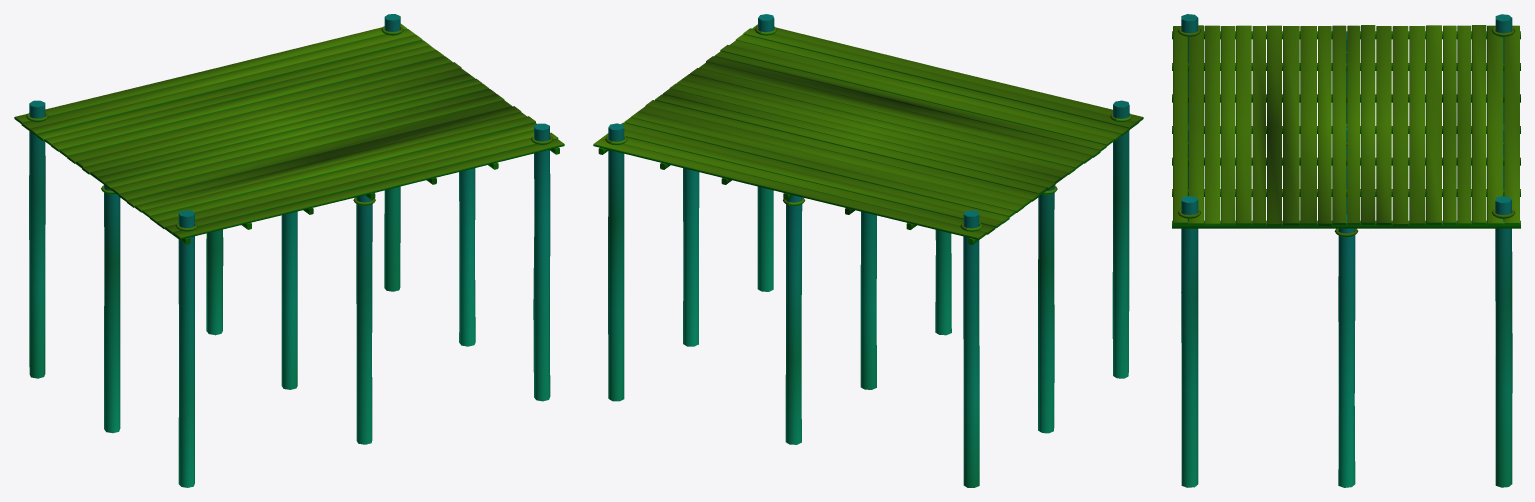
The model's file is port_deck_8m.glb.
3 views of the same model, side by side, from view 1: azimuth 30°, elevation 25°; view 2: azimuth 150°, elevation 25°; view 3: azimuth 270°, elevation 25° (orthographic). The views are drawn at different scales.
Parts seen in each view (by area): view 1: port_deck_8m; view 2: port_deck_8m; view 3: port_deck_8m.
Boxes of the visible parts, x1,y1,x2,y2 form: port_deck_8m: (14, 14, 564, 487); port_deck_8m: (593, 14, 1143, 487); port_deck_8m: (1172, 14, 1520, 487).
Size of what is drawn, in the model's own units: 8.08 by 5.4 by 6.
